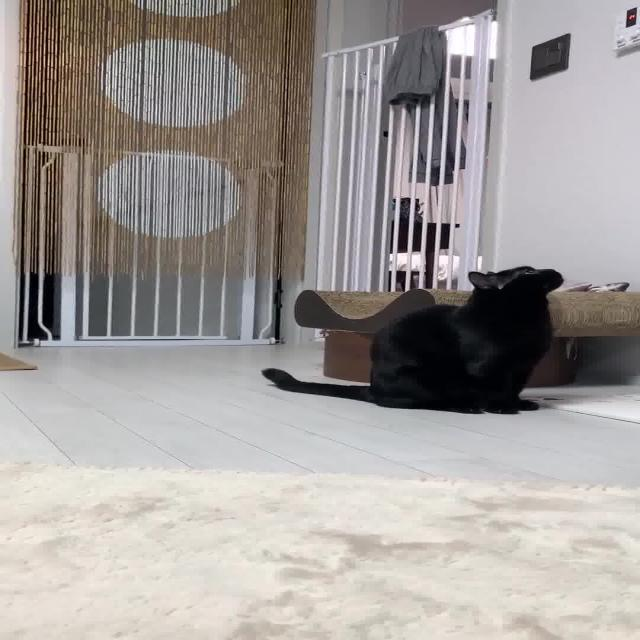cat: (238, 256, 592, 419)
